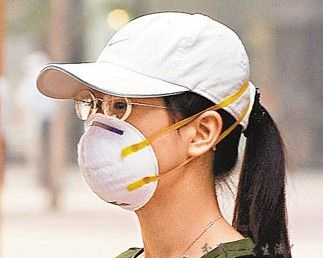face_mask: (76, 63, 172, 209)
